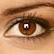eye: (19, 21, 36, 35)
